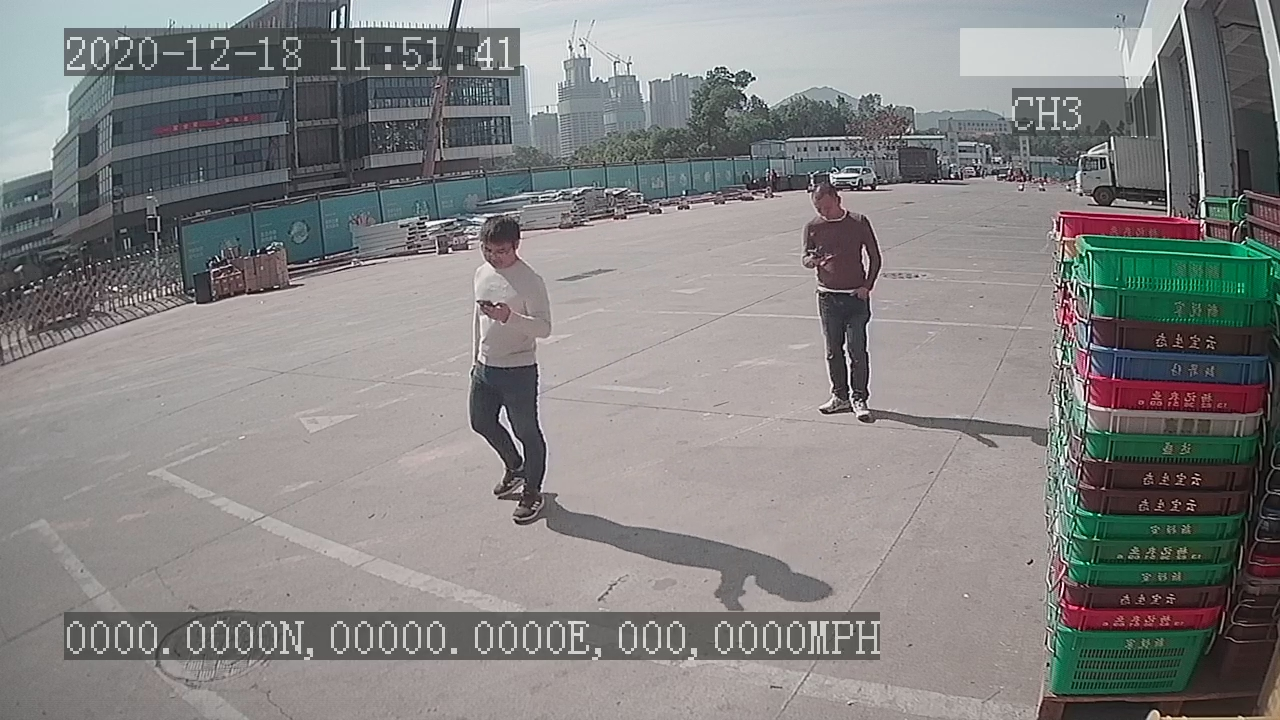person: (452, 210, 556, 536), (790, 174, 888, 422)
